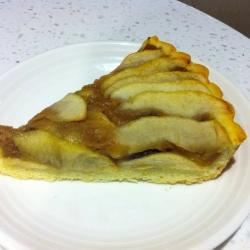apple_pie: (2, 31, 248, 196)
